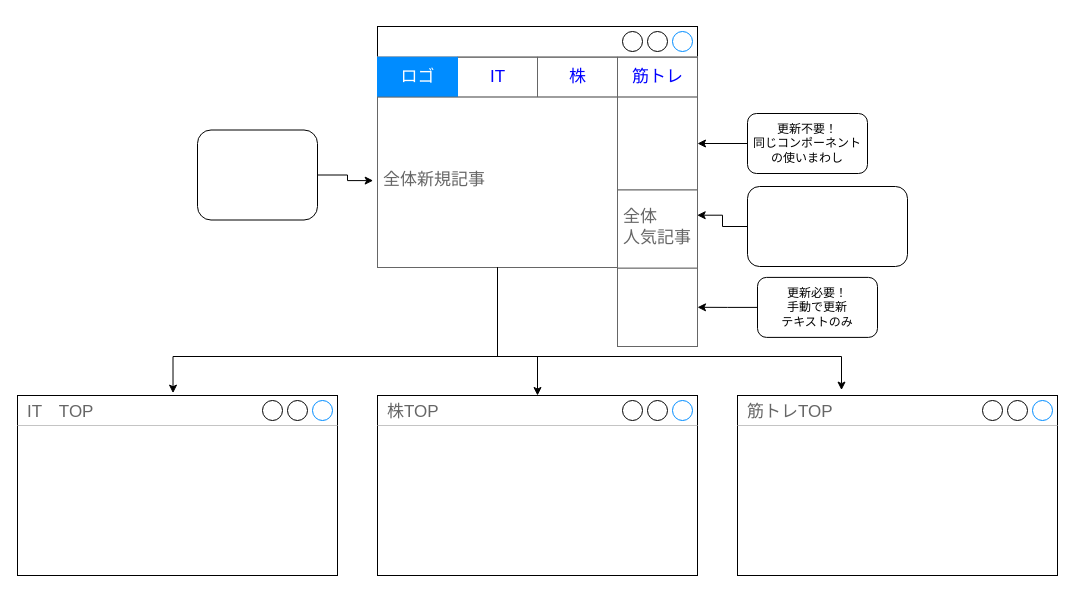
This 1075x593 diagram has some shape labels left out. The box of each missing label's shape, as (x1, y1, x2, y2) in pixels:
プロフィ ール: (616, 96, 698, 190)
全体 過去記事 アーカイブ: (616, 267, 698, 346)
全体TOP: (376, 26, 698, 265)
更新必要！ テンプレートコンポーネント作って手動で更新 ・画像、テキスト: (746, 186, 908, 266)
更新必要！ テンプレート作って手動で更新 ・画像、テキスト: (196, 129, 318, 220)
